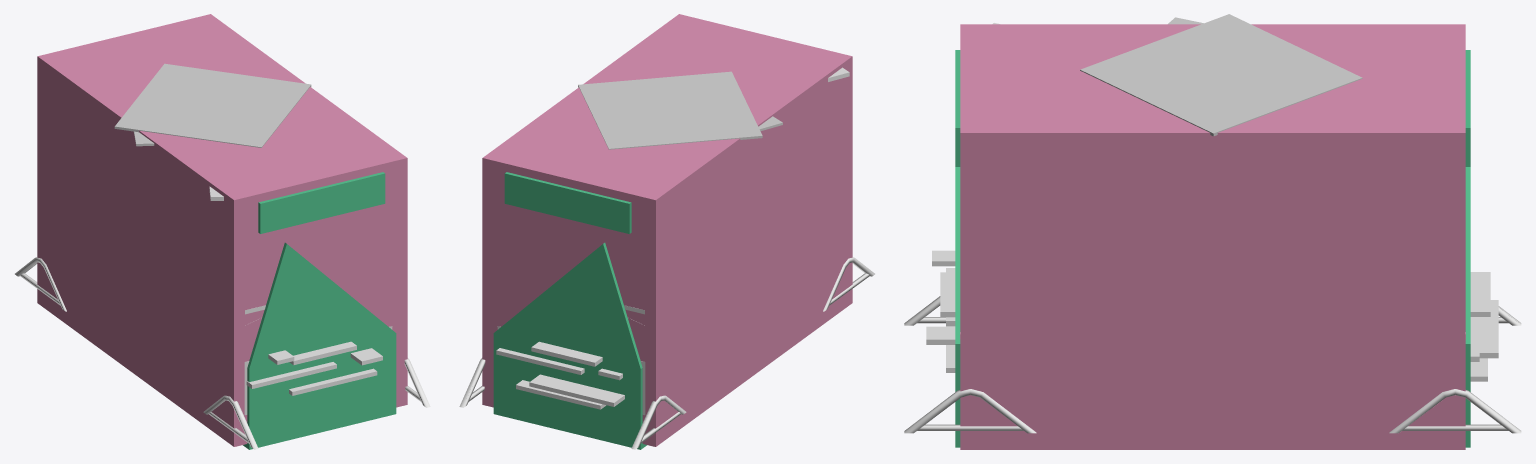
The model's file is ind_obj_01_c.dae.
The picture shows the model from 3 angles, left to right: view 1: azimuth 30°, elevation 25°; view 2: azimuth 150°, elevation 25°; view 3: azimuth 270°, elevation 25°; orthographic projection. The views are drawn at different scales.
Visible parts, largest first — view 1: Untitled, Colmesh-1, tree_oak_bush_a300, tree_oak_bush_a100; view 2: Untitled, Colmesh-1, tree_oak_bush_a300, tree_oak_bush_a100; view 3: Untitled, tree_oak_bush_a300, tree_oak_bush_a100, Colmesh-1.
Boxes of the visible parts, x1,y1,x2,y2 form: Untitled: (37, 14, 407, 446); Colmesh-1: (243, 172, 396, 449); tree_oak_bush_a300: (15, 65, 430, 449); tree_oak_bush_a100: (127, 63, 304, 196); Untitled: (482, 14, 852, 446); Colmesh-1: (493, 172, 646, 449); tree_oak_bush_a300: (459, 67, 874, 449); tree_oak_bush_a100: (579, 71, 777, 430); Untitled: (960, 24, 1465, 449); tree_oak_bush_a300: (904, 14, 1521, 433); tree_oak_bush_a100: (993, 16, 1362, 130); Colmesh-1: (955, 50, 1470, 447).
Size of the model in its own units: 1.4 by 3.05 by 1.77.
